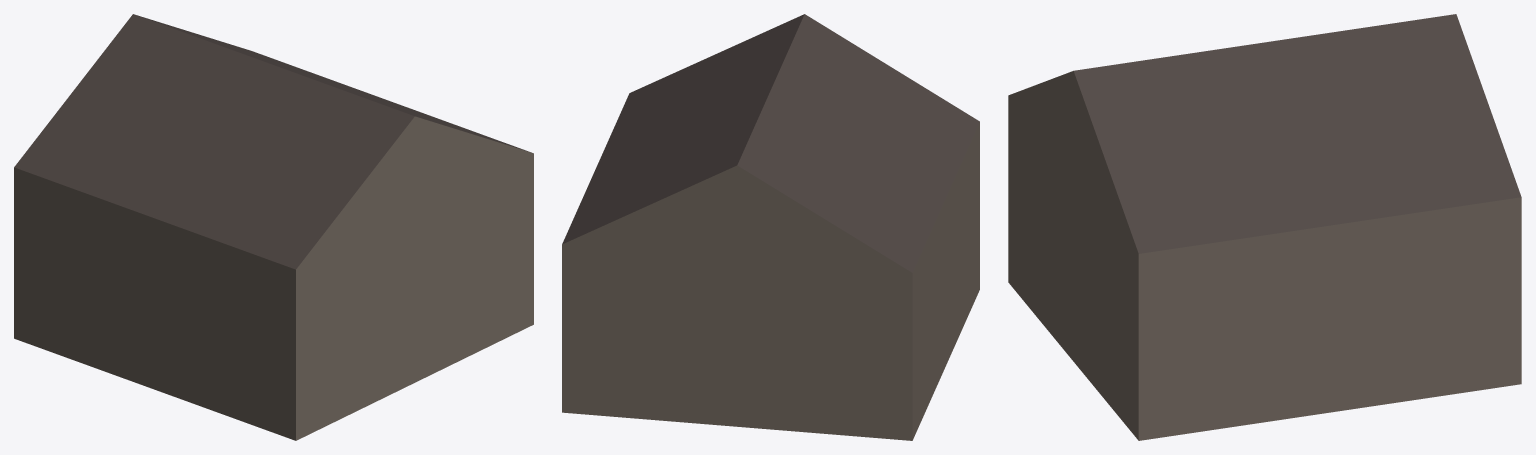
3 renders of one model, left to right at view 1: azimuth 30°, elevation 25°; view 2: azimuth 150°, elevation 25°; view 3: azimuth 270°, elevation 25°, orthographic. The views are drawn at different scales.
Parts seen in each view (by area): view 1: HP-w1200835422; view 2: HP-w1200835422; view 3: HP-w1200835422.
Boxes of the visible parts, x1=… form: HP-w1200835422: x1=14, y1=14, x2=533, y2=440; HP-w1200835422: x1=562, y1=14, x2=979, y2=440; HP-w1200835422: x1=1008, y1=14, x2=1521, y2=440.
Size of the model in its own units: 14.82 by 9.33 by 14.92.
